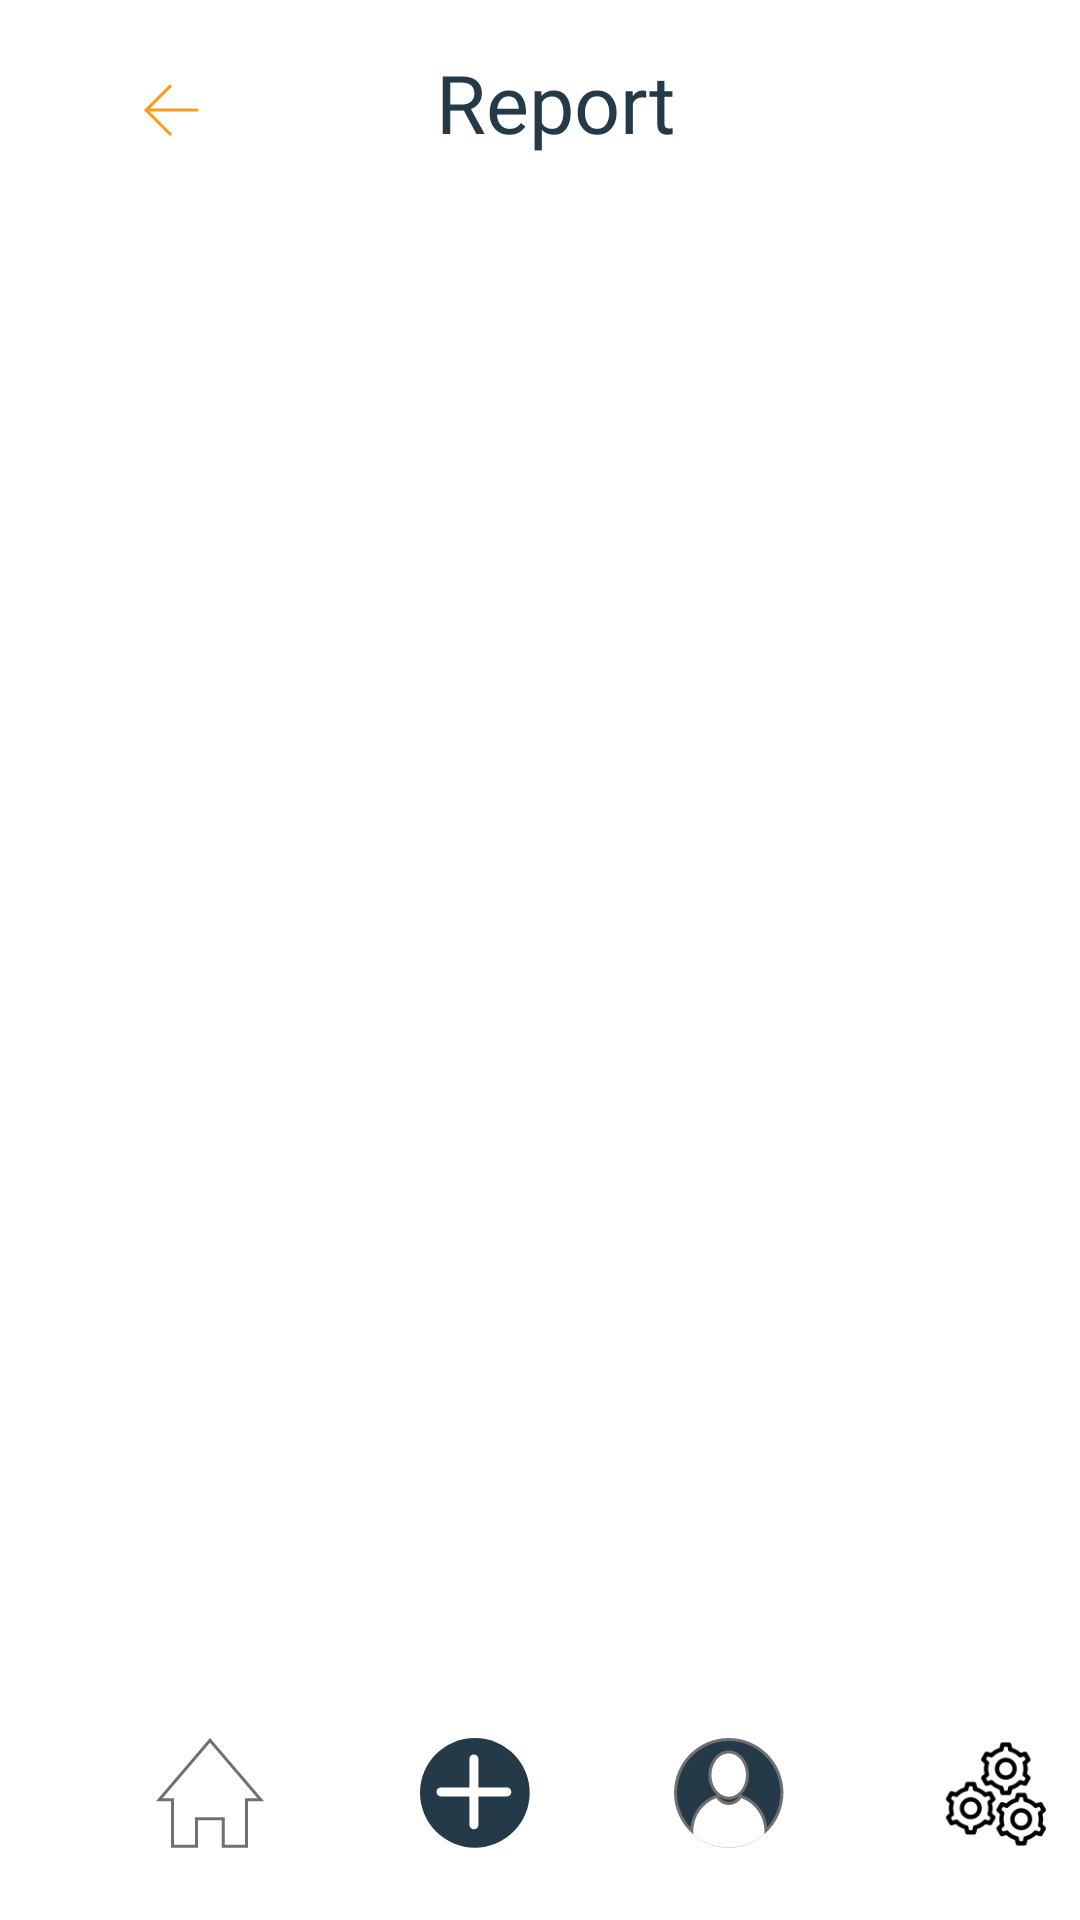

Icons on this 1080 × 1920 Android screen, each with the point to tap as (x,y):
add: (475,1793)
back arrow: (171,110)
home: (210,1793)
profile: (729,1793)
settings: (995,1794)
